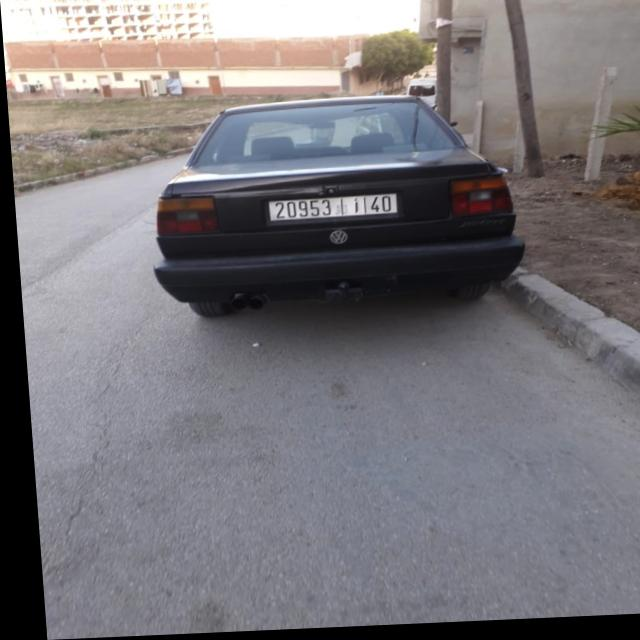License-Plate: (267, 197, 394, 223)
